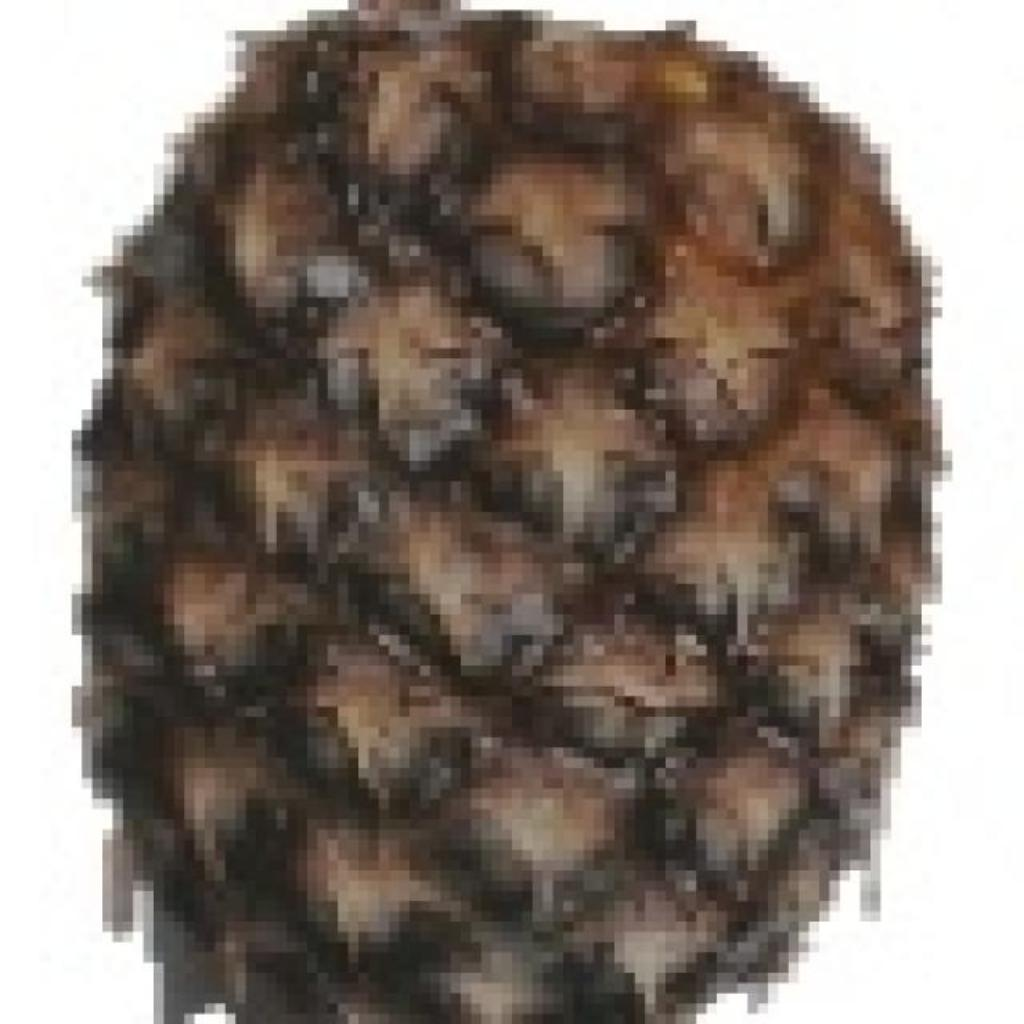pineapple: (78, 0, 938, 1024)
